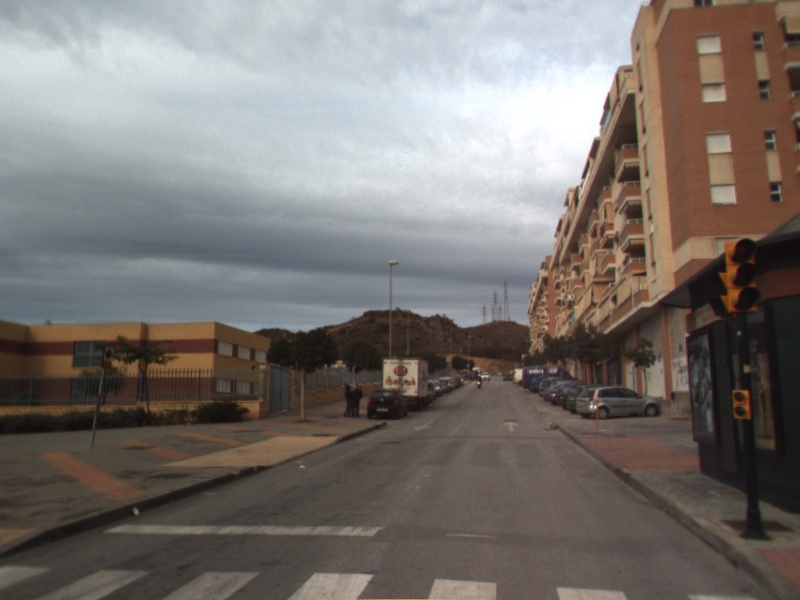STRAIGHT: (501, 419, 521, 433)
